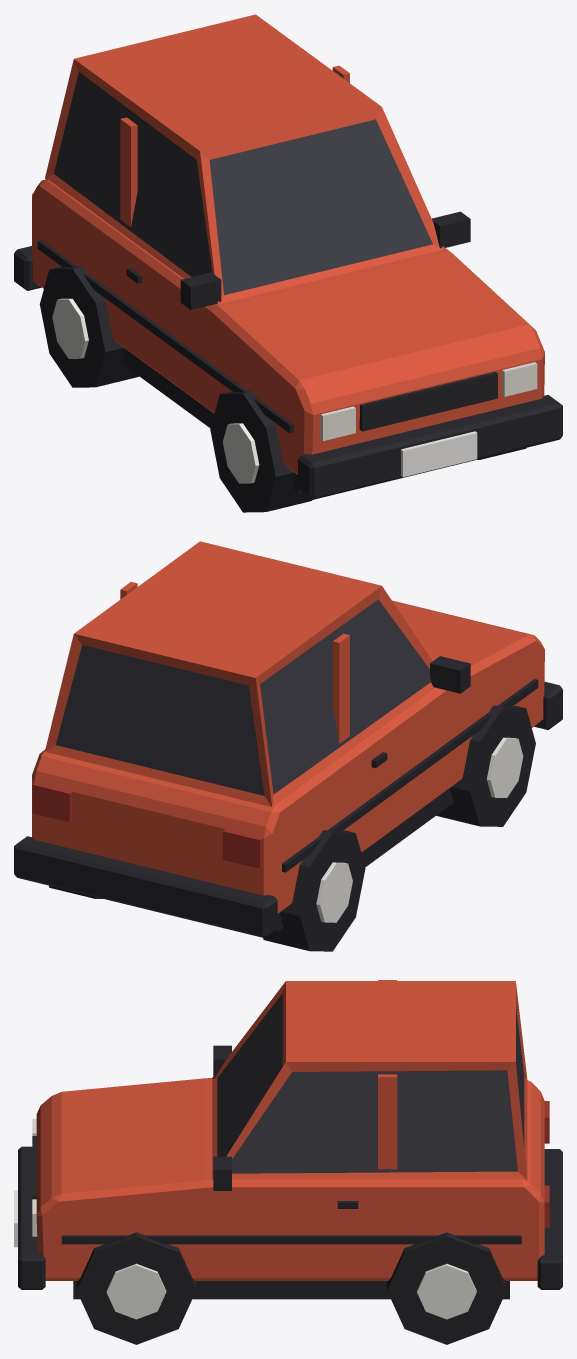
The model's file is car.glb.
3 renders of one model, top to bottom at view 1: azimuth 30°, elevation 25°; view 2: azimuth 150°, elevation 25°; view 3: azimuth 270°, elevation 25°, orthographic. The views are drawn at different scales.
Parts seen in each view (by area): view 1: Car_Cabin, Car_Body, Car_BumperFront, Car_Tire_FL, Car_Tire_BL, Car_Grille, Car_SideStripe_L, Car_Plate, Car_BPillar_L, Car_Underbody, Car_Hub_BL, Car_Hub_FL (+5 smaller); view 2: Car_Cabin, Car_Body, Car_BumperRear, Car_Tire_BL, Car_Tire_FL, Car_SideStripe_L, Car_BPillar_L, Car_Underbody, Car_Hub_BL, Car_Hub_FL, Car_Taillight_L, Car_Taillight_R (+2 smaller); view 3: Car_Body, Car_Cabin, Car_Tire_FR, Car_Tire_BR, Car_SideStripe_R, Car_Underbody, Car_BumperFront, Car_BumperRear, Car_Hub_FR, Car_Hub_BR, Car_BPillar_R, Car_Mirror_R.
Boxes of the visible parts, box(x1,y1,x2,y2) form: Car_Cabin: box(45, 14, 444, 304); Car_Body: box(32, 179, 544, 474); Car_BumperFront: box(298, 395, 562, 499); Car_Tire_FL: box(210, 391, 312, 512); Car_Tire_BL: box(39, 266, 139, 387); Car_Grille: box(359, 371, 497, 431); Car_SideStripe_L: box(37, 240, 293, 433); Car_Plate: box(401, 431, 477, 477); Car_BPillar_L: box(120, 117, 137, 227); Car_Underbody: box(121, 349, 301, 492); Car_Hub_BL: box(52, 298, 88, 358); Car_Hub_FL: box(223, 423, 259, 483); Car_Cabin: box(45, 541, 433, 806); Car_Body: box(32, 600, 544, 913); Car_BumperRear: box(14, 836, 277, 937); Car_Tire_BL: box(263, 830, 365, 951); Car_Tire_FL: box(436, 705, 535, 826); Car_SideStripe_L: box(282, 679, 538, 872); Car_BPillar_L: box(332, 633, 349, 743); Car_Underbody: box(274, 788, 453, 931); Car_Hub_BL: box(316, 862, 352, 922); Car_Hub_FL: box(486, 737, 523, 797); Car_Taillight_L: box(222, 829, 262, 868); Car_Taillight_R: box(32, 783, 72, 822); Car_Body: box(36, 1078, 544, 1280); Car_Cabin: box(212, 981, 527, 1180); Car_Tire_FR: box(76, 1232, 196, 1344); Car_Tire_BR: box(387, 1232, 506, 1344); Car_SideStripe_R: box(61, 1235, 521, 1244); Car_Underbody: box(73, 1281, 509, 1299); Car_BumperFront: box(18, 1146, 45, 1289); Car_BumperRear: box(537, 1149, 562, 1289); Car_Hub_FR: box(106, 1263, 166, 1319); Car_Hub_BR: box(417, 1263, 476, 1319); Car_BPillar_R: box(378, 1074, 397, 1169); Car_Mirror_R: box(213, 1156, 231, 1190).
Size of the model in its own units: 0.256 by 0.255 by 0.4775.
